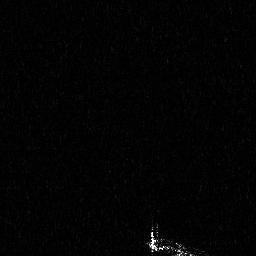ship: (144, 221, 206, 256)
